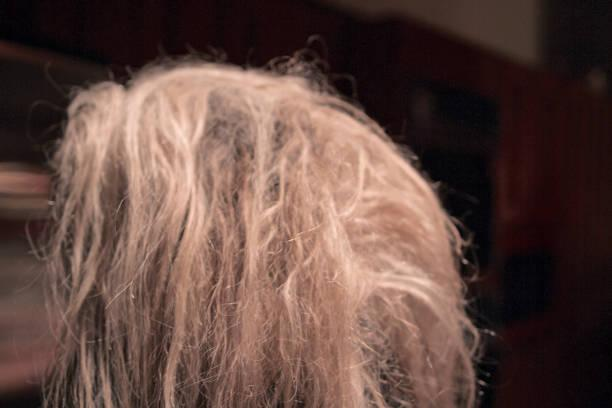dry hair: (123, 281, 181, 386), (213, 248, 254, 383), (346, 296, 395, 394), (256, 298, 299, 392), (279, 48, 322, 96)
